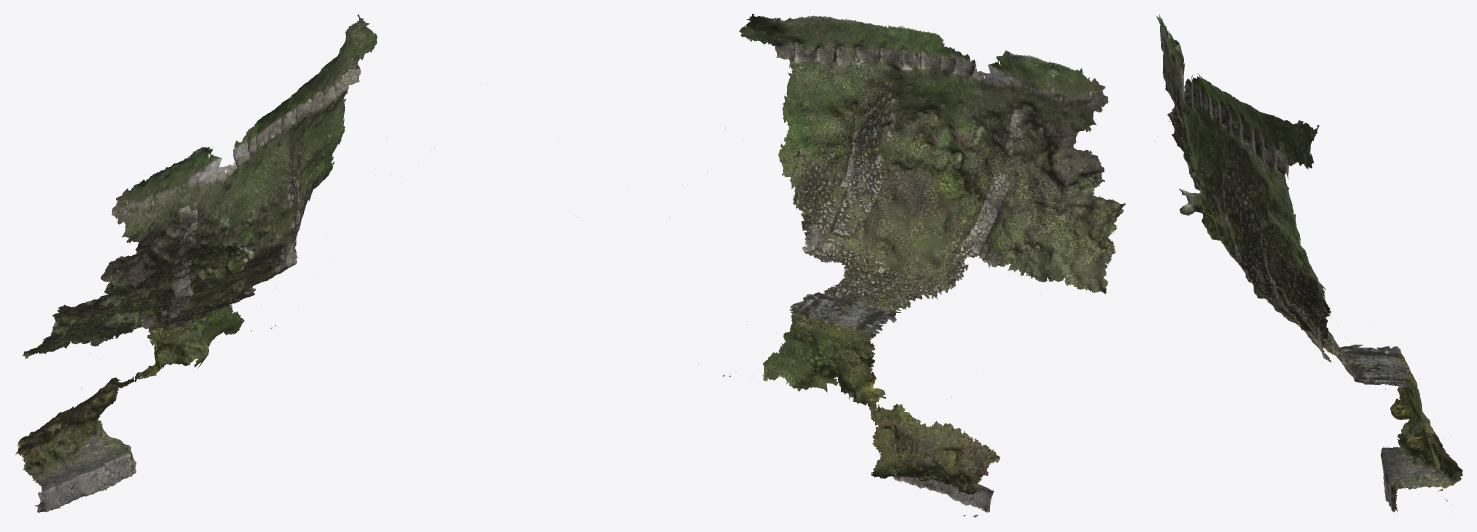
The picture shows the model from 3 angles, left to right: view 1: azimuth 30°, elevation 25°; view 2: azimuth 150°, elevation 25°; view 3: azimuth 270°, elevation 25°; orthographic projection. The views are drawn at different scales.
Size of the model in its own units: 20.55 by 16.02 by 8.82.
Materials: 1 (1 with a texture image).
